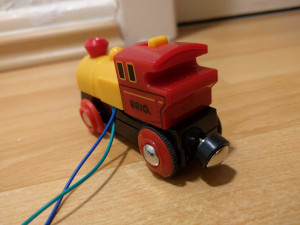brio: (72, 32, 231, 185)
